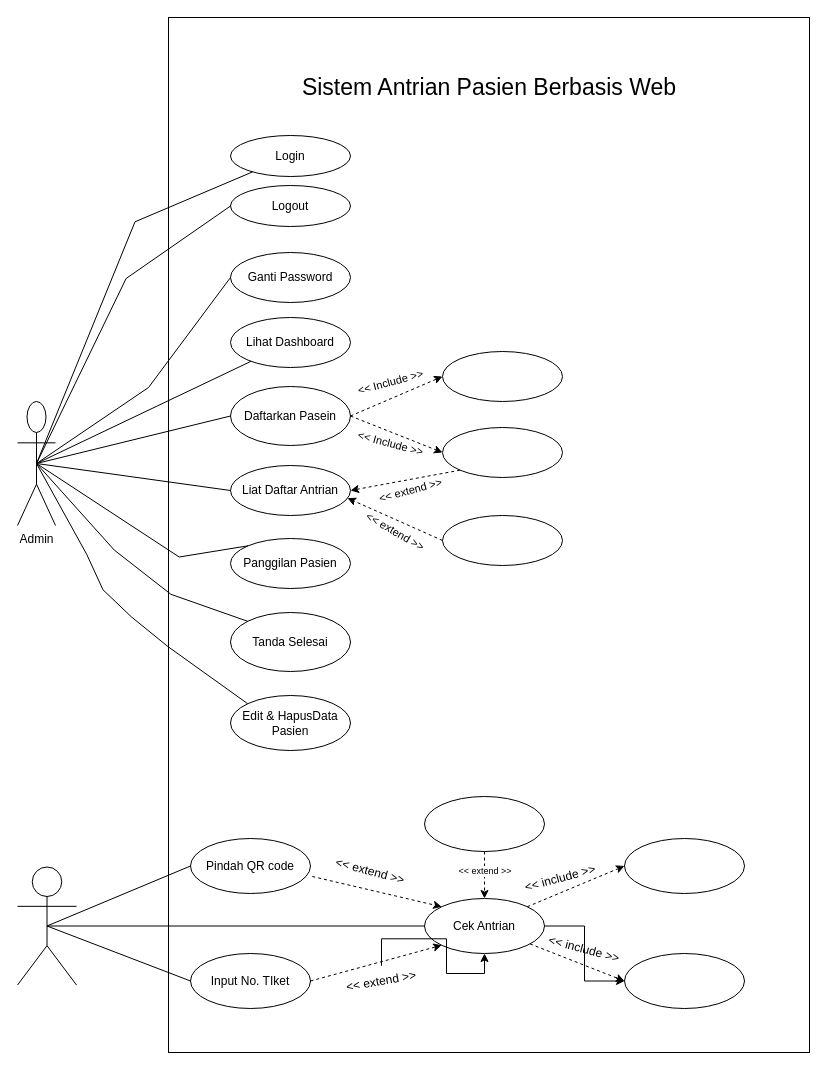
This 827x1070 diagram has some shape labels left out. Each missing label, with the box of its shape:
Buat No.Tiket: (442, 350, 562, 402)
Cari Pasien: (442, 514, 562, 566)
Liat Posisi Antrian: (624, 838, 744, 894)
Lihat Status Antrian: (624, 952, 744, 1008)
Pasien: (16, 866, 76, 985)
Perbarui Otomatis: (424, 796, 544, 852)
Tampilan QR Code: (442, 426, 562, 478)
